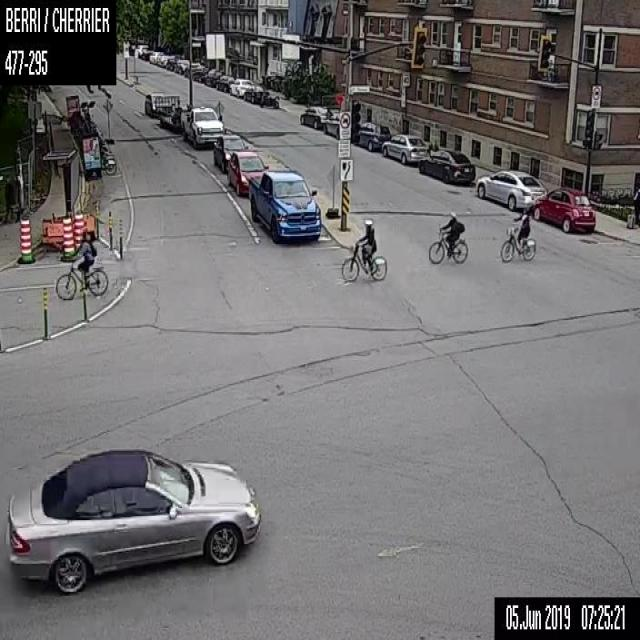construction: (17, 213, 34, 263), (324, 164, 338, 219), (59, 216, 74, 262), (101, 97, 114, 144), (73, 212, 82, 246), (42, 284, 47, 339), (81, 276, 87, 319), (119, 215, 123, 257), (95, 199, 99, 240), (108, 209, 112, 248), (213, 100, 224, 113), (335, 92, 342, 104)
cyclist: (54, 225, 108, 300), (339, 217, 387, 283), (426, 208, 469, 264), (499, 208, 536, 262)
pedestrian: (632, 183, 639, 227)
vehicle: (4, 450, 260, 596), (249, 170, 321, 245), (144, 90, 222, 148), (476, 169, 546, 211), (533, 186, 595, 233), (418, 149, 474, 183), (227, 150, 268, 193), (381, 133, 428, 163), (212, 133, 248, 171), (355, 122, 390, 150), (299, 105, 332, 128), (243, 84, 269, 103), (166, 54, 189, 74), (229, 77, 253, 96), (323, 111, 339, 138), (215, 74, 234, 92), (203, 68, 222, 86), (259, 92, 278, 108), (191, 65, 204, 81), (135, 44, 148, 56), (158, 55, 169, 67), (149, 51, 159, 62)
